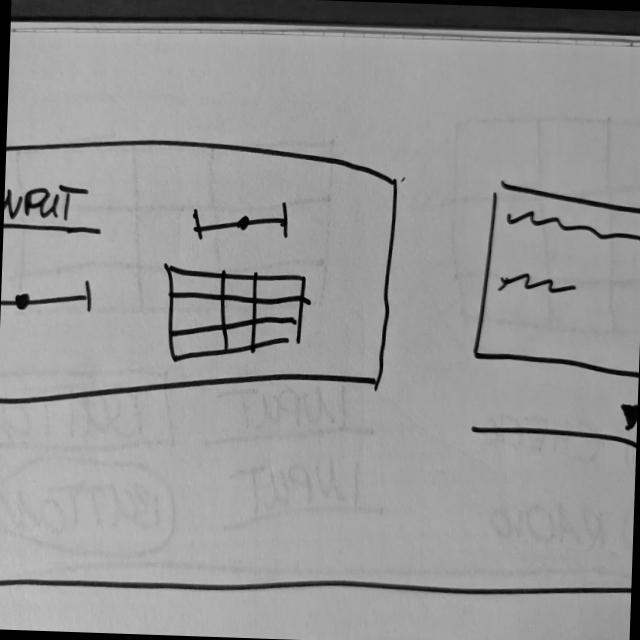container: (0, 124, 400, 418)
input: (2, 180, 104, 236)
select: (465, 390, 637, 450)
slider: (0, 273, 97, 330), (190, 195, 296, 245)
table: (160, 261, 310, 371)
textarea: (468, 178, 640, 382)
